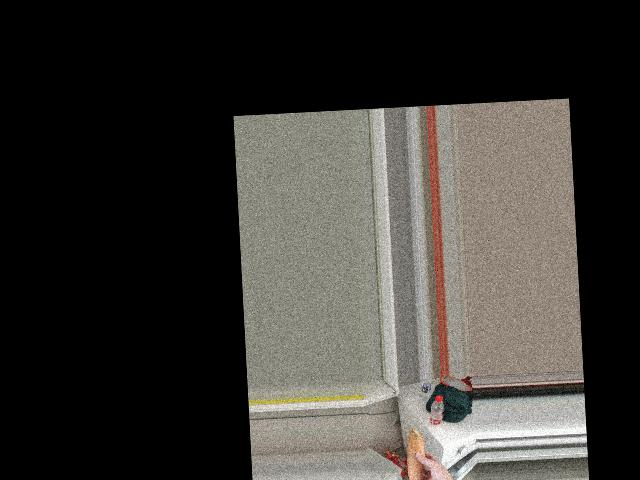sweet_potato: (404, 433, 430, 480)
